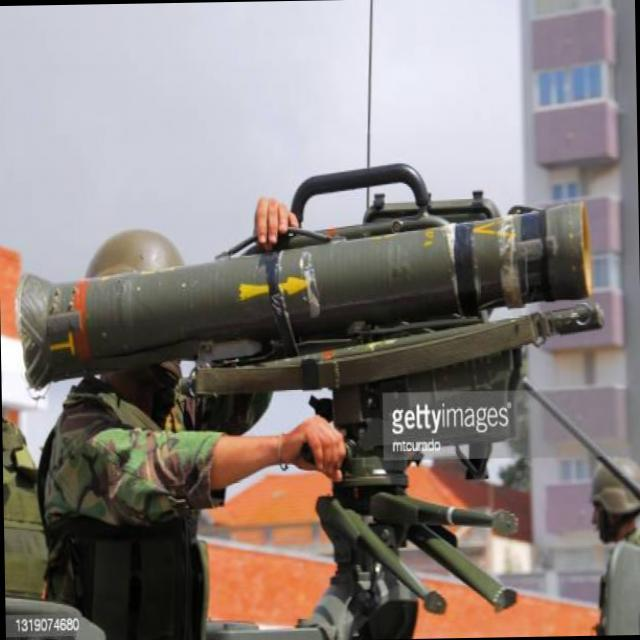rocket: (15, 200, 602, 392)
